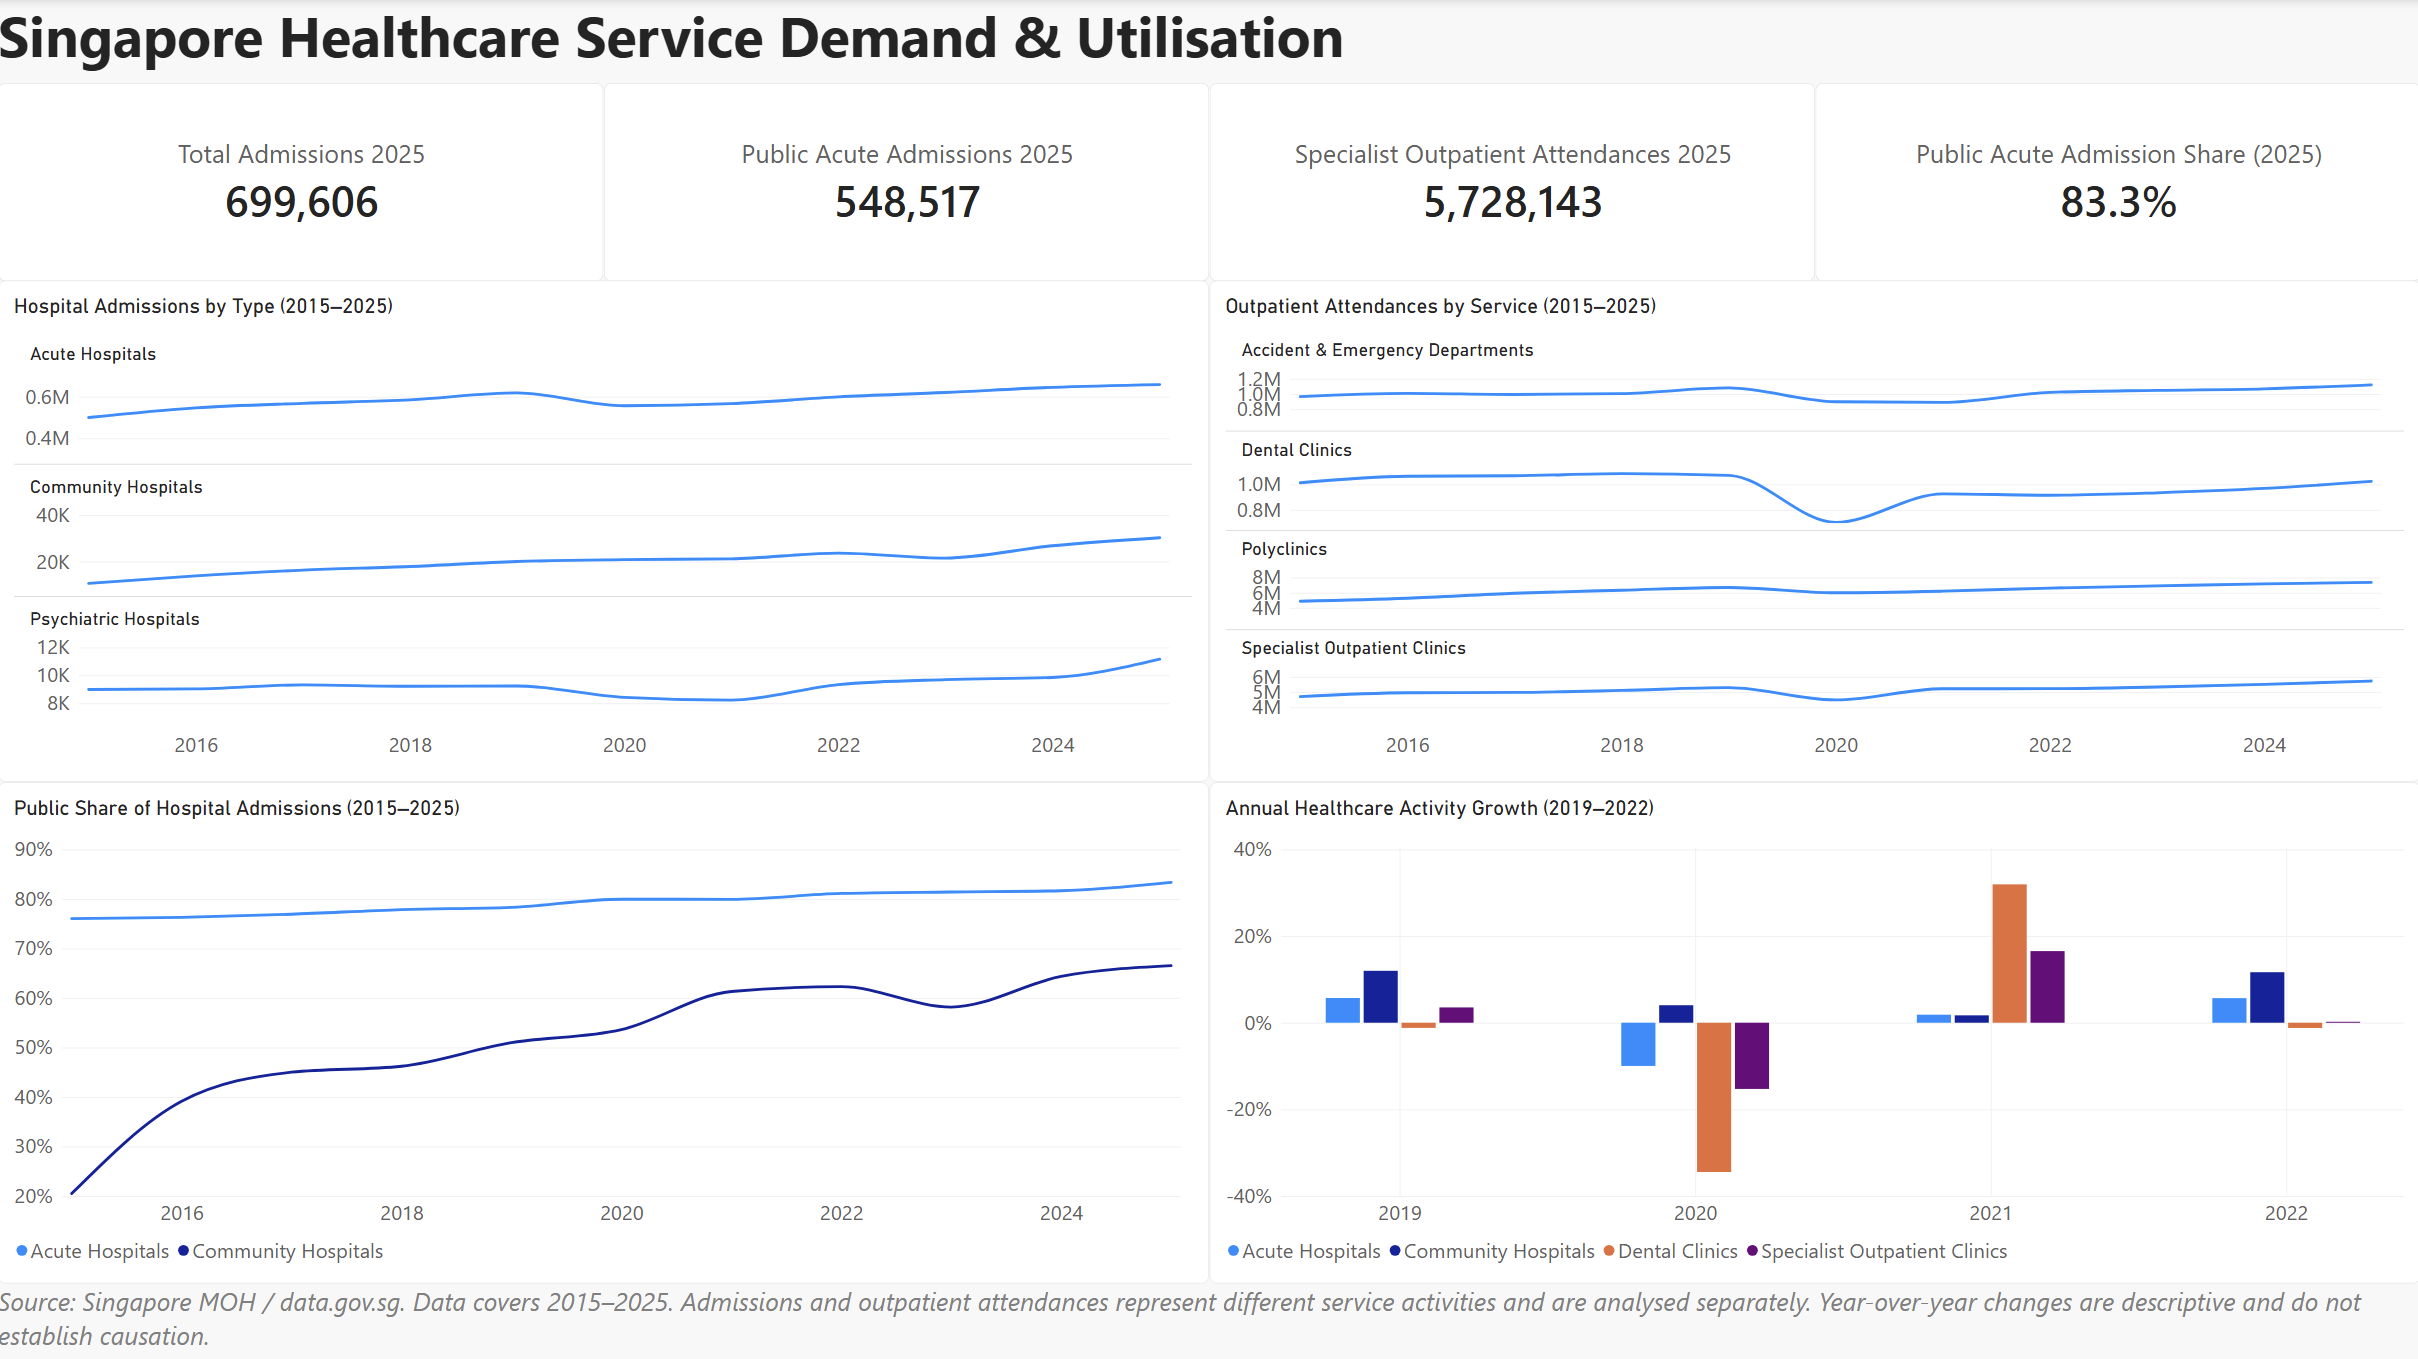

The page's visual inventory and layout, read from the dashboard file:
{"tool":"powerbi","page":{"name":"Healthcare Service Demand","canvas":[2560,1440],"ordinal":0},"visuals":[{"type":"cardVisual","fields":{"Data":["Monthly Utilisation.Total Admissions 2025"]},"box":[0,90,640,210],"z":0},{"type":"cardVisual","fields":{"Data":["Monthly Utilisation.Public Acute Admissions 2025"]},"box":[640,90,640,210],"z":1000},{"type":"cardVisual","fields":{"Data":["Monthly Utilisation.Specialist Outpatient Attendances 2025"]},"box":[1280,90,640,210],"z":2000},{"type":"cardVisual","fields":{"Data":["Monthly Utilisation.Public Admission Share 2025"]},"box":[1920,90,640,210],"z":3000},{"type":"lineChart","title":"Hospital Admissions by Type (2015–2025)","fields":{"Category":["Year.Year"],"Rows":["Monthly Utilisation.service_category"],"Y":["Monthly Utilisation.Total Admissions"]},"box":[0,300,1280,530],"z":4000},{"type":"lineChart","title":"Outpatient Attendances by Service (2015–2025)","fields":{"Category":["Year.Year"],"Rows":["Monthly Utilisation.service_category"],"Y":["Monthly Utilisation.Outpatient Attendances"]},"box":[1280,300,1280,530],"z":5000},{"type":"lineChart","title":"Public Share of Hospital Admissions (2015–2025)","fields":{"Category":["Year.Year"],"Series":["Monthly Utilisation.service_category"],"Y":["Monthly Utilisation.Public Admission Share"]},"box":[0,830,1280,530],"z":6000},{"type":"clusteredColumnChart","title":"Annual Healthcare Activity Growth (2019–2022)","fields":{"Category":["Year.Year"],"Series":["Monthly Utilisation.service_category"],"Y":["Monthly Utilisation.Service YoY %"]},"box":[1280,830,1280,530],"z":7000},{"type":"textbox","box":[0,0,2560,90],"z":7001},{"type":"textbox","box":[0,1360,2560,80],"z":7002}]}

Visuals, with their boxes in screenshot pixels (x1, y1, x2, y2), scaled from the page's 2560x1440 canvas onto the 2418x1359 screenshot:
cardVisual - Monthly Utilisation.Total Admissions 2025: region(0, 85, 604, 283)
cardVisual - Monthly Utilisation.Public Acute Admissions 2025: region(604, 85, 1209, 283)
cardVisual - Monthly Utilisation.Specialist Outpatient Attendances 2025: region(1209, 85, 1814, 283)
cardVisual - Monthly Utilisation.Public Admission Share 2025: region(1814, 85, 2417, 283)
"Hospital Admissions by Type (2015–2025)" lineChart: region(0, 283, 1209, 783)
"Outpatient Attendances by Service (2015–2025)" lineChart: region(1209, 283, 2417, 783)
"Public Share of Hospital Admissions (2015–2025)" lineChart: region(0, 783, 1209, 1284)
"Annual Healthcare Activity Growth (2019–2022)" clusteredColumnChart: region(1209, 783, 2417, 1284)
textbox: region(0, 0, 2417, 85)
textbox: region(0, 1284, 2417, 1358)
